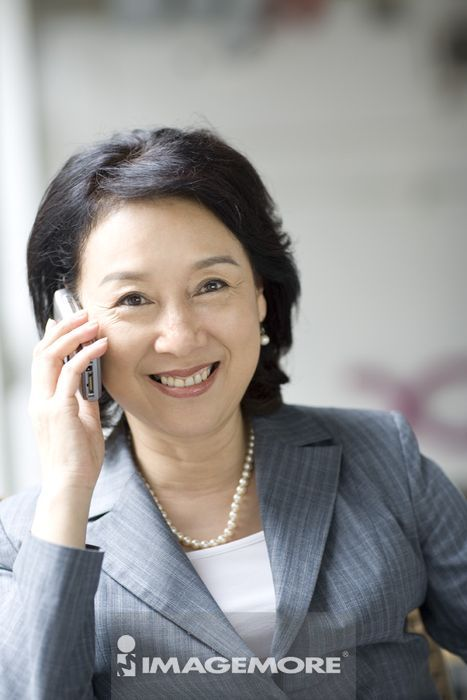phone: (46, 283, 104, 410)
talk: (34, 251, 258, 478)
